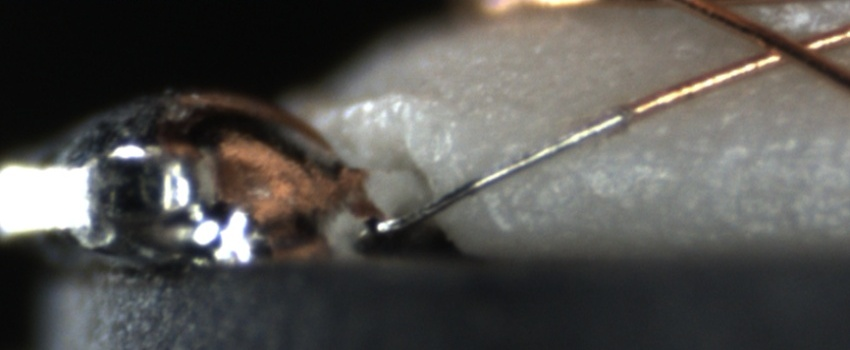CL: (741, 19, 836, 75)
DL: (530, 124, 850, 188)
TS: (371, 112, 630, 235)
TTCW: (376, 69, 721, 238)
